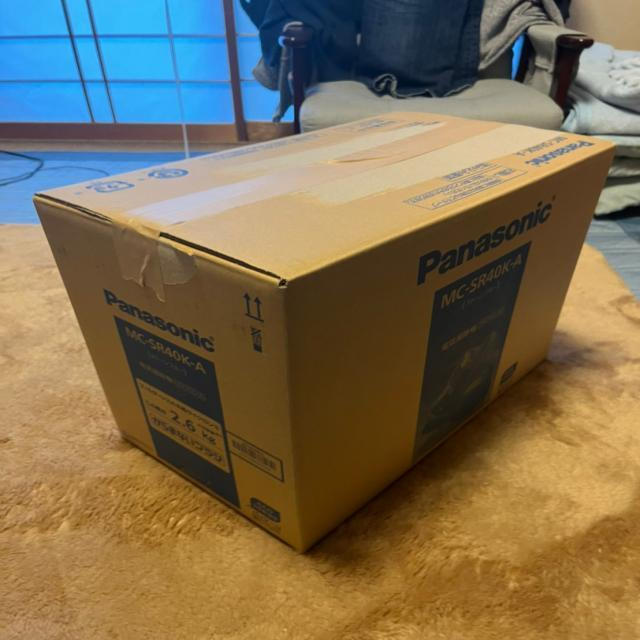-: (26, 106, 622, 559)
